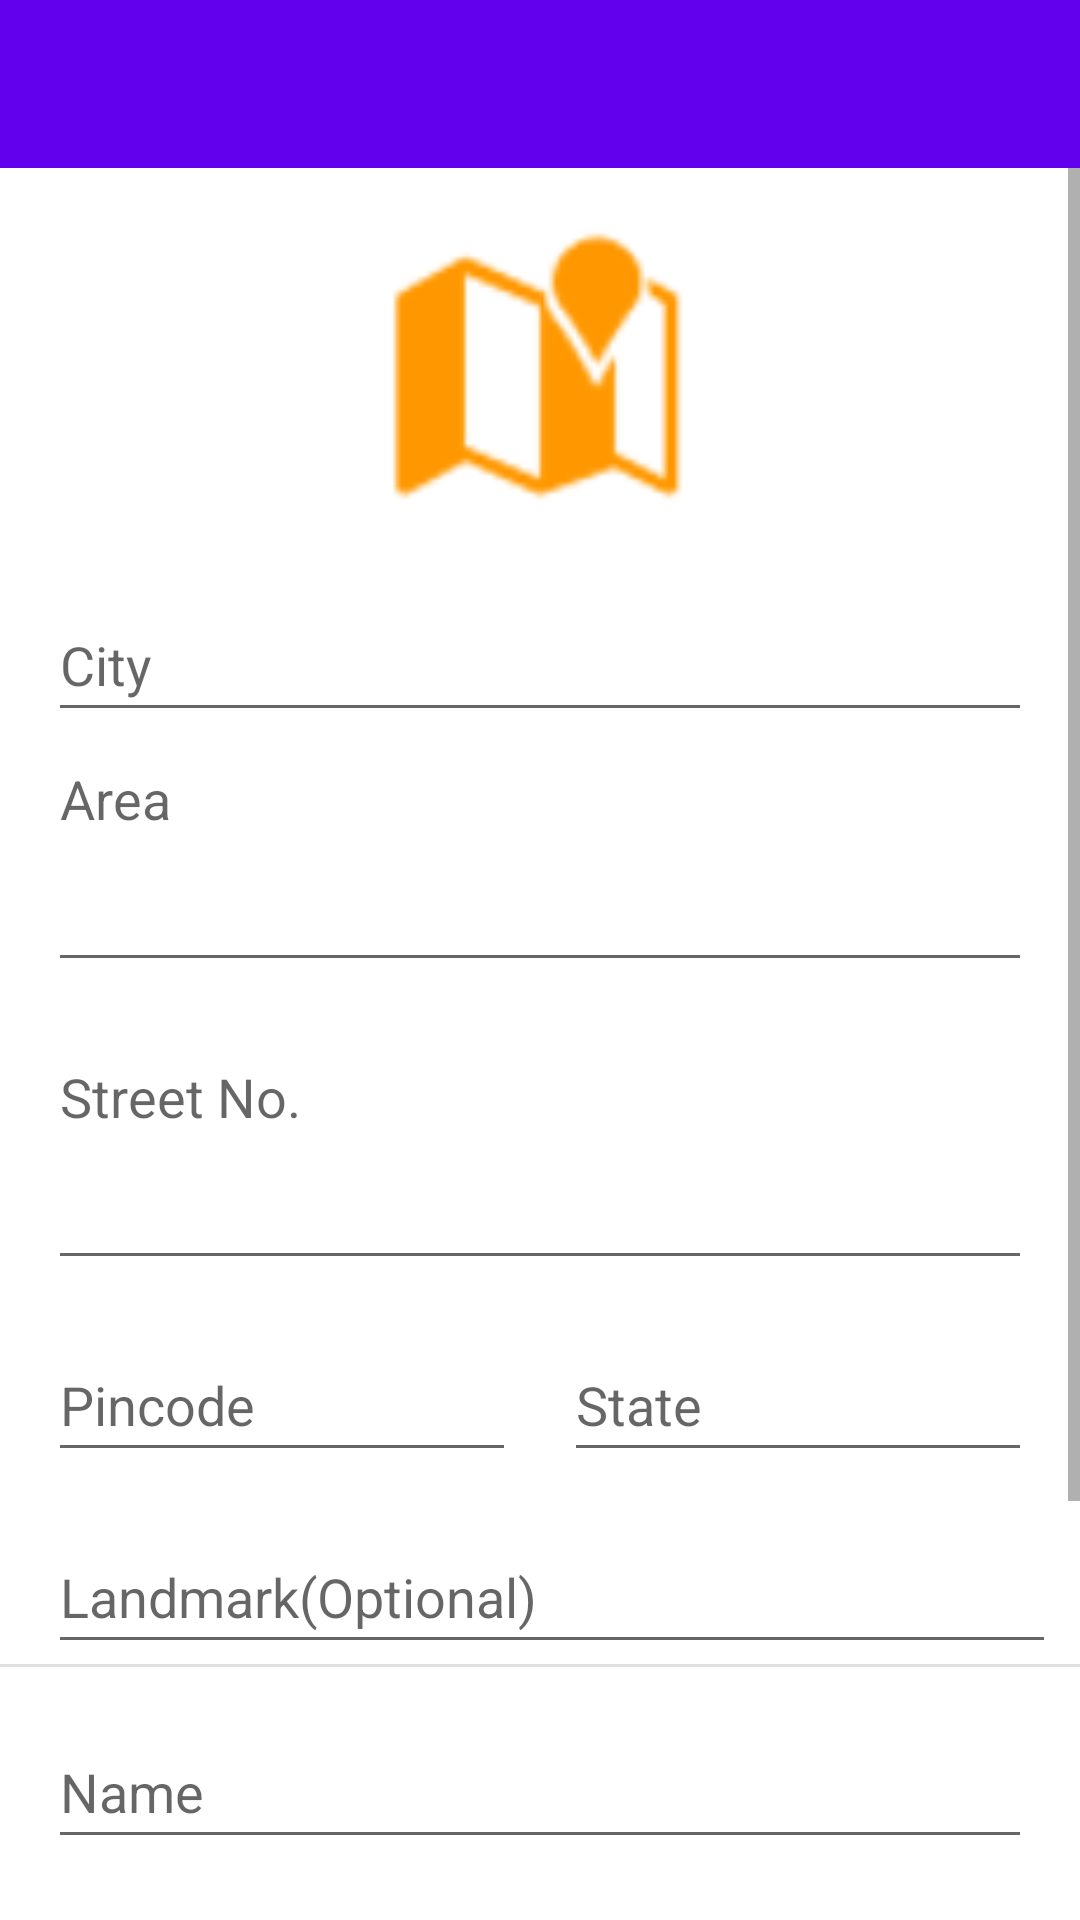

Named icons in this screenshot (1080x1920) and their bounding boxes, (x1=x1, y1=y1, x2=x2, y2=y2):
map: (x1=393, y1=233, x2=682, y2=499)
